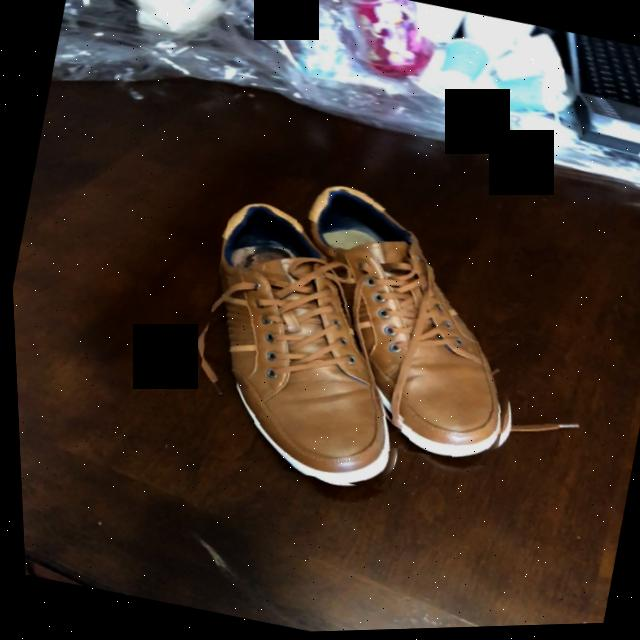shoe: (296, 191, 500, 465), (217, 204, 392, 486)
